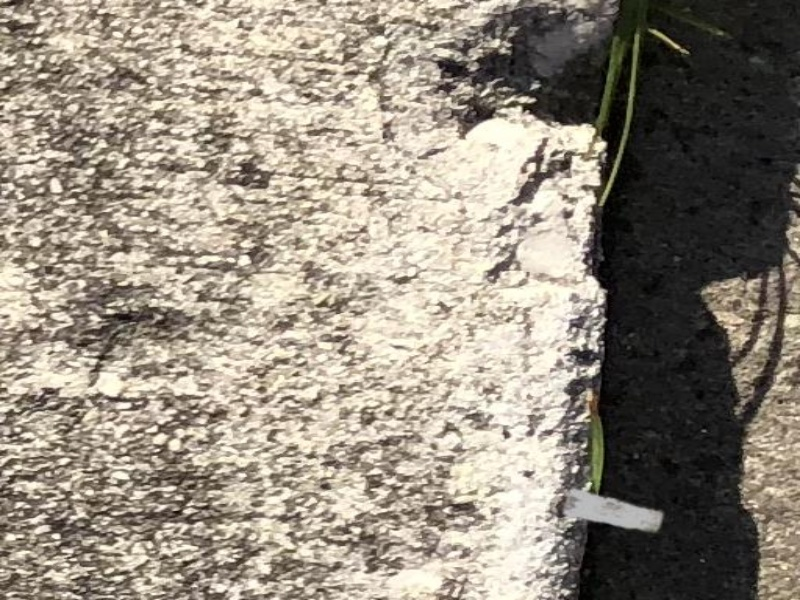cig: (562, 479, 673, 545)
